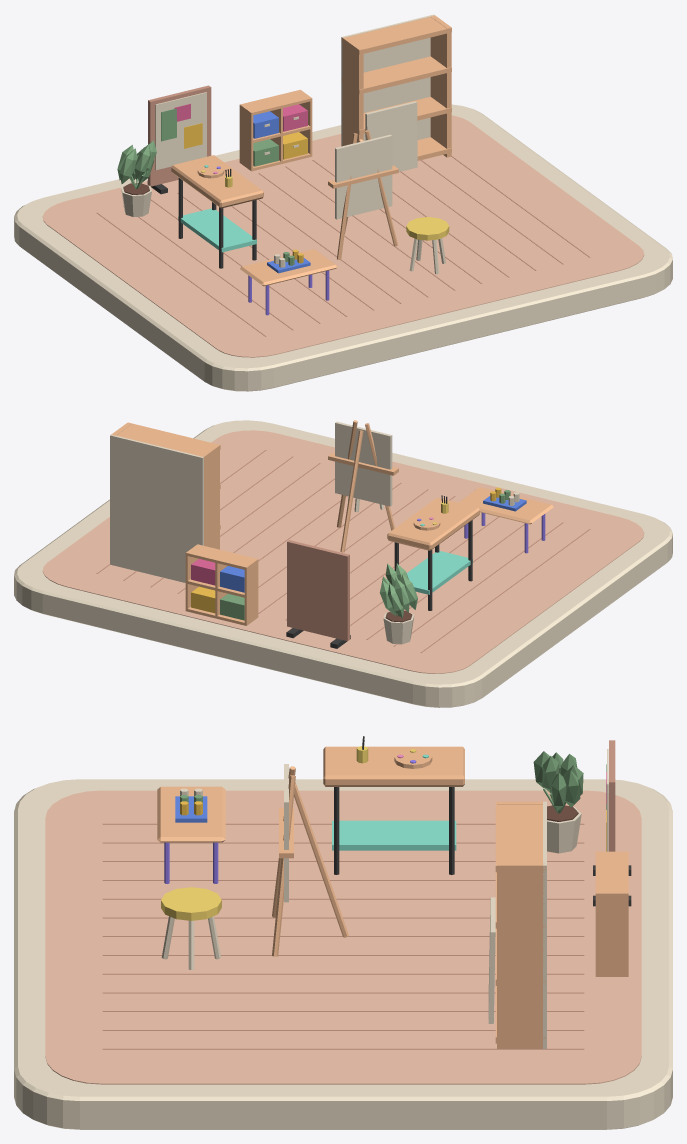
3 views of the same model, one above another, from view 1: azimuth 30°, elevation 25°; view 2: azimuth 150°, elevation 25°; view 3: azimuth 270°, elevation 25° (orthographic). The views are drawn at different scales.
Visible parts, largest first — view 1: COM-02 Floor Surface, COM-01 Rounded Base Direct, Canvas, Back, Blank canvas, Canvas.001, Worktop, Pot, Side.003, Side.002, Shelf.003, Shelf.002 (+11 smaller); view 2: COM-02 Floor Surface, COM-01 Rounded Base Direct, Back, Panel, Canvas, Worktop, Pot, Side.002, Lower shelf, Shelf.003, Rounded table top, Cubbies shelf.002 (+6 smaller); view 3: COM-02 Floor Surface, COM-01 Rounded Base Direct, Side.003, Worktop, Lower shelf, Pot, Shelf.003, Rounded table top, Cubbies divider.002, Seat, Cubbies shelf.002, Rear leg (+11 smaller).
Boxes of the visible parts, <box> form: COM-02 Floor Surface: <box>42,115,644,357</box>; COM-01 Rounded Base Direct: <box>14,104,672,391</box>; Canvas: <box>335,134,392,219</box>; Back: <box>341,14,434,146</box>; Blank canvas: <box>365,101,417,171</box>; Canvas.001: <box>155,92,206,170</box>; Worktop: <box>171,155,263,208</box>; Pot: <box>117,140,156,216</box>; Side.003: <box>430,15,451,157</box>; Side.002: <box>342,37,363,145</box>; Shelf.003: <box>341,17,451,54</box>; Shelf.002: <box>341,56,451,94</box>; COM-02 Floor Surface: <box>42,430,644,673</box>; COM-01 Rounded Base Direct: <box>14,420,672,707</box>; Back: <box>110,435,203,582</box>; Panel: <box>287,540,349,641</box>; Canvas: <box>335,421,392,506</box>; Worktop: <box>387,497,479,550</box>; Pot: <box>379,563,417,644</box>; Side.002: <box>199,444,219,549</box>; Lower shelf: <box>406,551,472,594</box>; Shelf.003: <box>116,422,220,461</box>; Rounded table top: <box>459,487,553,524</box>; Cubbies shelf.002: <box>186,544,257,569</box>; COM-02 Floor Surface: <box>45,790,641,1084</box>; COM-01 Rounded Base Direct: <box>14,779,672,1129</box>; Side.003: <box>497,862,544,1048</box>; Worktop: <box>323,746,464,786</box>; Lower shelf: <box>332,820,456,850</box>; Pot: <box>533,751,583,853</box>; Shelf.003: <box>495,801,545,872</box>; Rounded table top: <box>157,786,225,842</box>; Cubbies divider.002: <box>595,894,628,976</box>; Seat: <box>161,887,221,920</box>; Cubbies shelf.002: <box>595,851,628,893</box>; Rear leg: <box>294,782,348,937</box>.
Bounding box in the file's own units: 6 × 1.9 × 5.2.
1 material, 1 textured.
